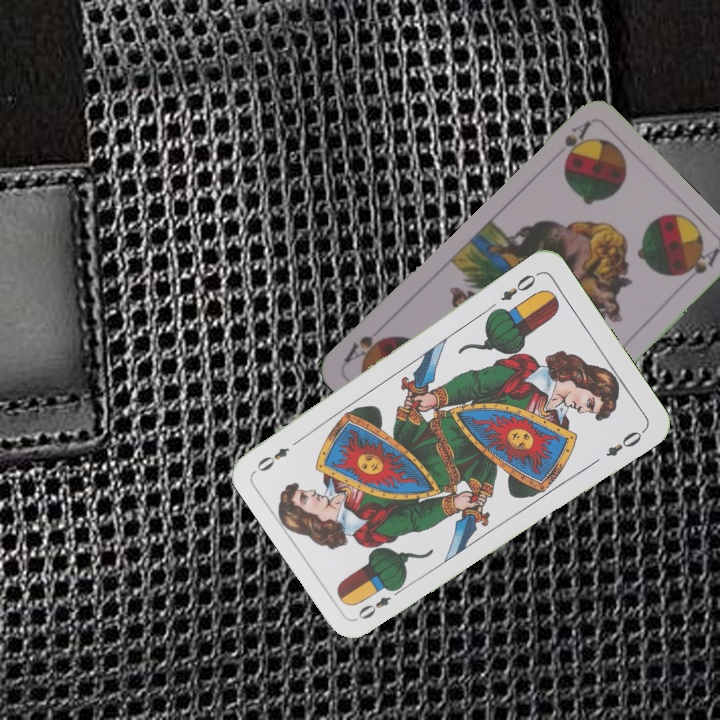EO: (353, 582, 406, 623), (496, 268, 542, 304)
SA: (559, 116, 596, 168)
